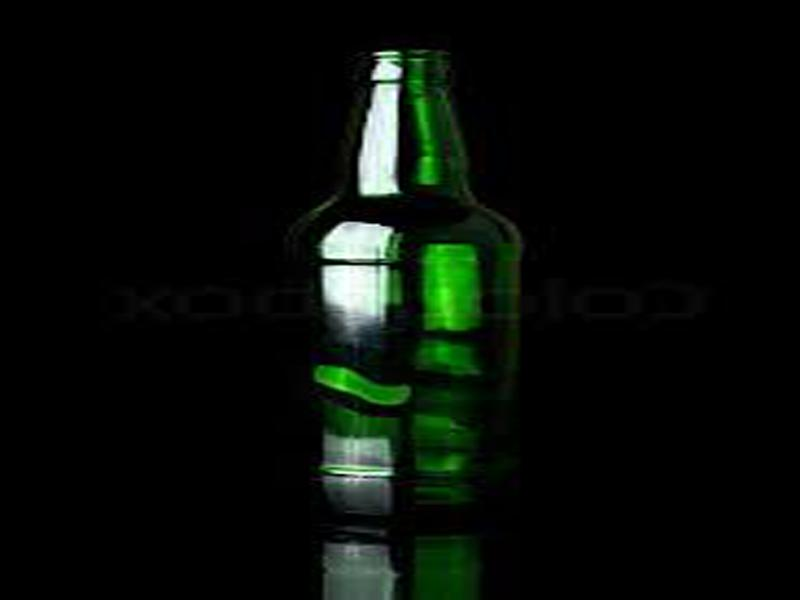Beer: (318, 50, 524, 478)
